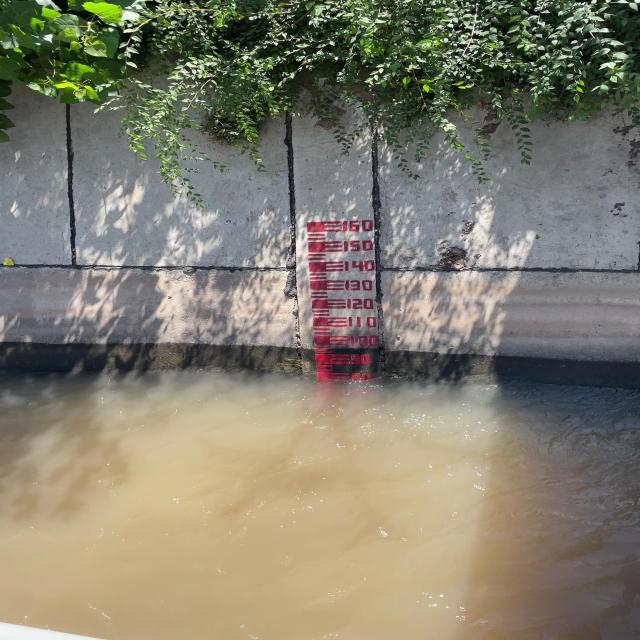ruler: (302, 216, 387, 379)
value: (339, 218, 380, 233), (342, 260, 379, 276), (342, 239, 379, 255), (343, 278, 378, 293), (347, 335, 382, 350), (345, 315, 379, 330), (344, 298, 376, 312), (348, 352, 374, 367)
